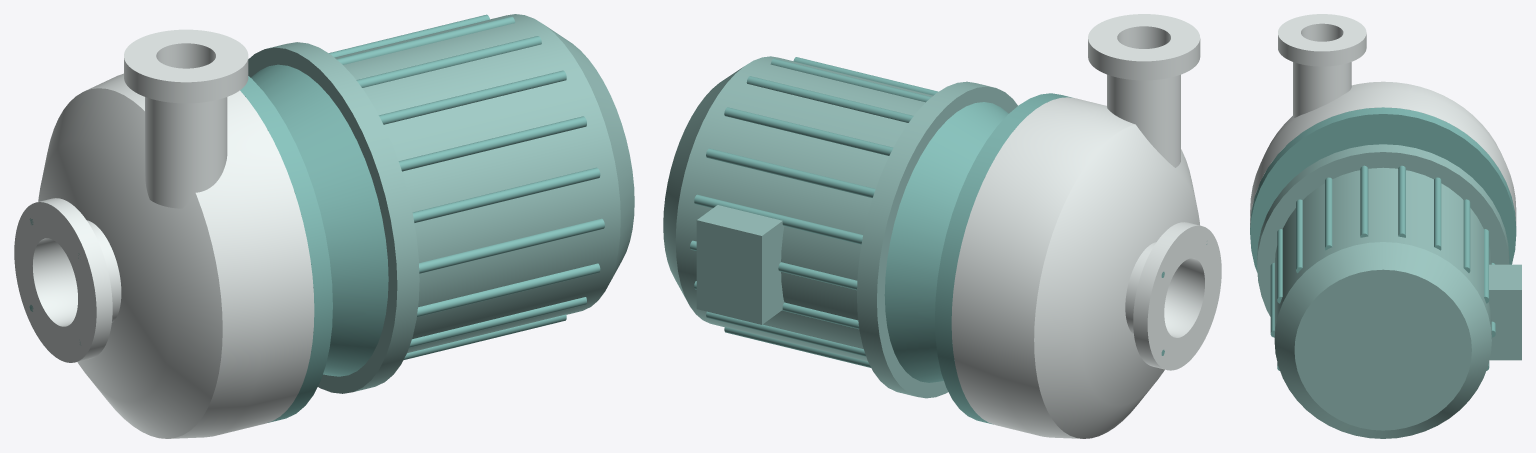
3 renders of one model, left to right at view 1: azimuth 30°, elevation 25°; view 2: azimuth 150°, elevation 25°; view 3: azimuth 270°, elevation 25°, orthographic. The views are drawn at different scales.
Visible parts, largest first — view 1: 泵体_圆弧壳与轴向进液口, 电机_带筋机壳, 连接座_短连接段, 电机_连接法兰, 接口_偏置竖向出液管, 接口_朝上出液法兰, 连接座_泵壳连接环, 电机_圆弧尾罩, 电机_散热筋09, 电机_散热筋08, 电机_散热筋10, 电机_散热筋07 (+6 smaller); view 2: 泵体_圆弧壳与轴向进液口, 电机_带筋机壳, 连接座_短连接段, 电机_连接法兰, 电机_接线盒, 接口_朝上出液法兰, 连接座_泵壳连接环, 接口_偏置竖向出液管, 电机_圆弧尾罩, 电机_散热筋03, 电机_散热筋04, 电机_散热筋05 (+7 smaller); view 3: 电机_圆弧尾罩, 电机_带筋机壳, 连接座_泵壳连接环, 电机_连接法兰, 泵体_圆弧壳与轴向进液口, 接口_朝上出液法兰, 电机_接线盒, 接口_偏置竖向出液管, 电机_散热筋06, 电机_散热筋05, 电机_散热筋04, 电机_散热筋07 (+5 smaller).
Part boxes in pixels (box(x1,y1,x2,y2)): 泵体_圆弧壳与轴向进液口: box(14, 73, 314, 438); 电机_带筋机壳: box(334, 14, 620, 353); 连接座_短连接段: box(251, 64, 388, 376); 电机_连接法兰: box(248, 42, 419, 393); 接口_偏置竖向出液管: box(145, 64, 227, 208); 接口_朝上出液法兰: box(124, 29, 248, 103); 连接座_泵壳连接环: box(240, 76, 332, 422); 电机_圆弧尾罩: box(546, 26, 634, 287); 电机_散热筋09: box(412, 167, 600, 222); 电机_散热筋08: box(398, 116, 586, 171); 电机_散热筋10: box(419, 218, 604, 273); 电机_散热筋07: box(379, 70, 566, 124); 泵体_圆弧壳与轴向进液口: box(951, 97, 1221, 438); 电机_带筋机壳: box(675, 56, 932, 361); 连接座_短连接段: box(884, 102, 1008, 382); 电机_连接法兰: box(857, 81, 1017, 398); 电机_接线盒: box(696, 205, 784, 324); 接口_朝上出液法兰: box(1088, 14, 1200, 80); 连接座_泵壳连接环: box(935, 93, 1072, 424); 接口_偏置竖向出液管: box(1107, 45, 1180, 167); 电机_圆弧尾罩: box(663, 67, 742, 303); 电机_散热筋03: box(706, 148, 875, 197); 电机_散热筋04: box(724, 107, 893, 155); 电机_散热筋05: box(746, 76, 913, 122); 电机_圆弧尾罩: box(1274, 242, 1491, 438); 电机_带筋机壳: box(1274, 167, 1491, 338); 连接座_泵壳连接环: box(1250, 107, 1516, 272); 电机_连接法兰: box(1257, 144, 1509, 316); 泵体_圆弧壳与轴向进液口: box(1250, 81, 1516, 227); 接口_朝上出液法兰: box(1278, 14, 1366, 66); 电机_接线盒: box(1489, 264, 1521, 360); 接口_偏置竖向出液管: box(1293, 38, 1351, 117); 电机_散热筋06: box(1360, 165, 1368, 237); 电机_散热筋05: box(1398, 165, 1405, 237); 电机_散热筋04: box(1434, 177, 1441, 250); 电机_散热筋07: box(1325, 177, 1332, 250).
Size of the model in its own units: 0.4598 by 0.345 by 0.294.
